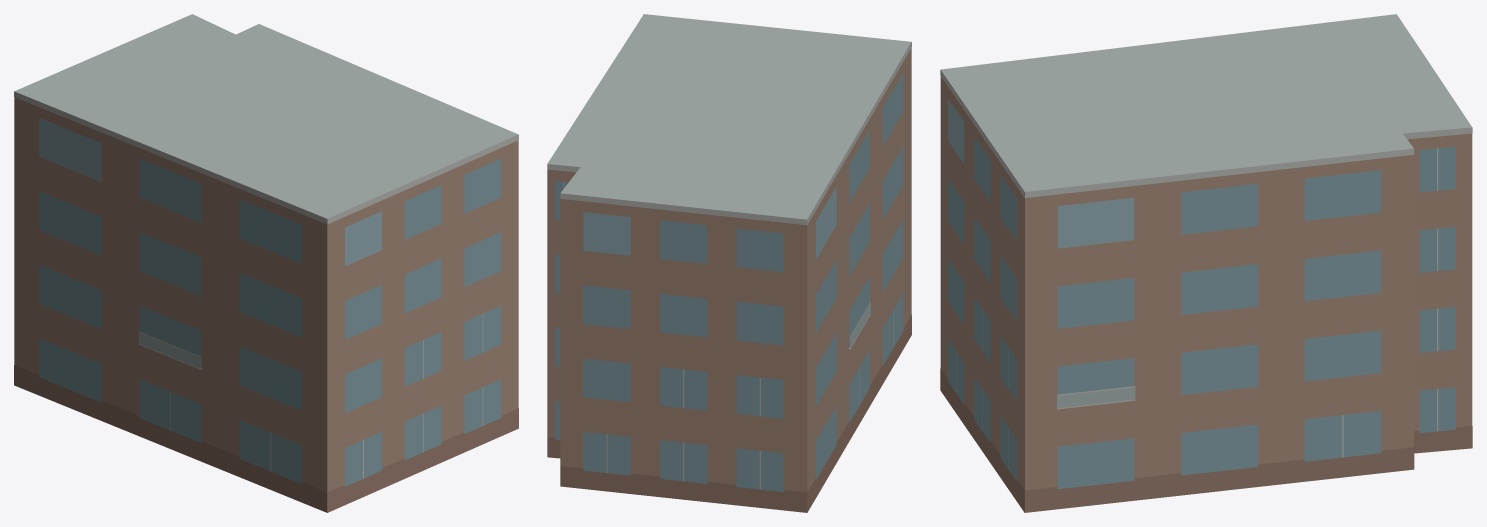
The model's file is survey-upis-32916875.glb.
3 renders of one model, left to right at view 1: azimuth 30°, elevation 25°; view 2: azimuth 150°, elevation 25°; view 3: azimuth 270°, elevation 25°, orthographic. The views are drawn at different scales.
Visible parts, largest first — view 1: survey-upis-32916875.tmp; view 2: survey-upis-32916875.tmp; view 3: survey-upis-32916875.tmp.
Boxes of the visible parts, left/top/right/bottom form: survey-upis-32916875.tmp: left=14, top=14, right=518, bottom=512; survey-upis-32916875.tmp: left=547, top=14, right=911, bottom=512; survey-upis-32916875.tmp: left=940, top=14, right=1472, bottom=512.
Bounding box in the file's own units: 15.24 × 12.8 × 19.24.
